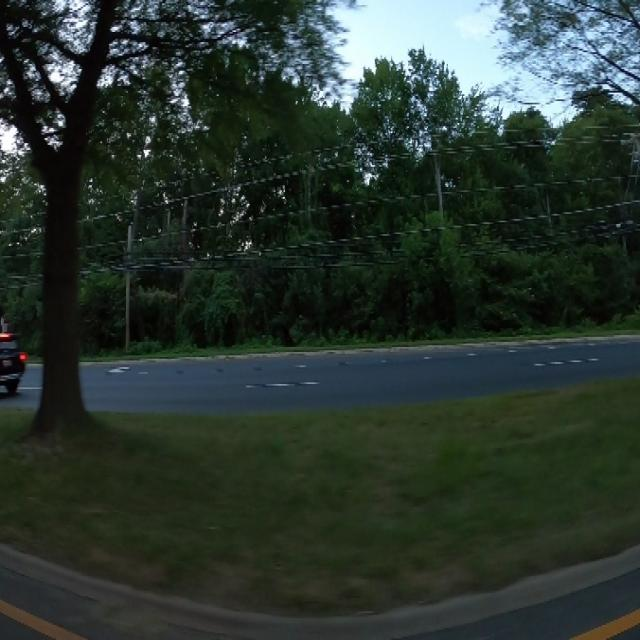cars: (0, 328, 29, 402)
